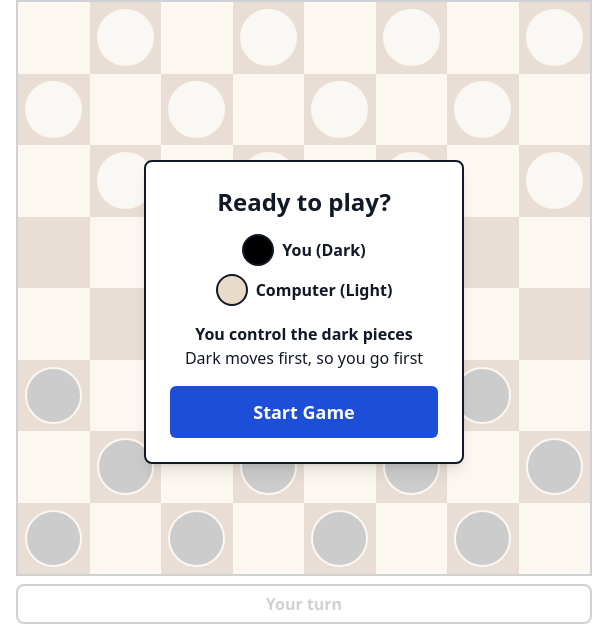
GameScreen › removes the overlay after Start Game is clicked
Click the button "Start Game" at (304, 412), box [170,386,438,438]
Wait 200 ms
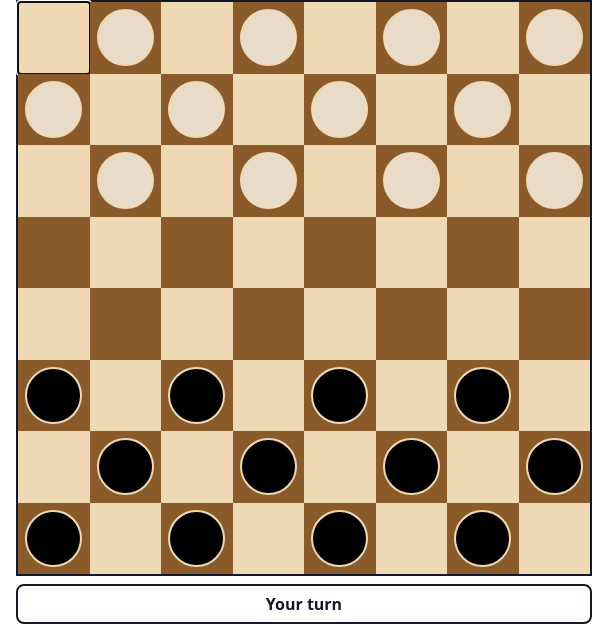
Expected: the button "Start Game" is gone
